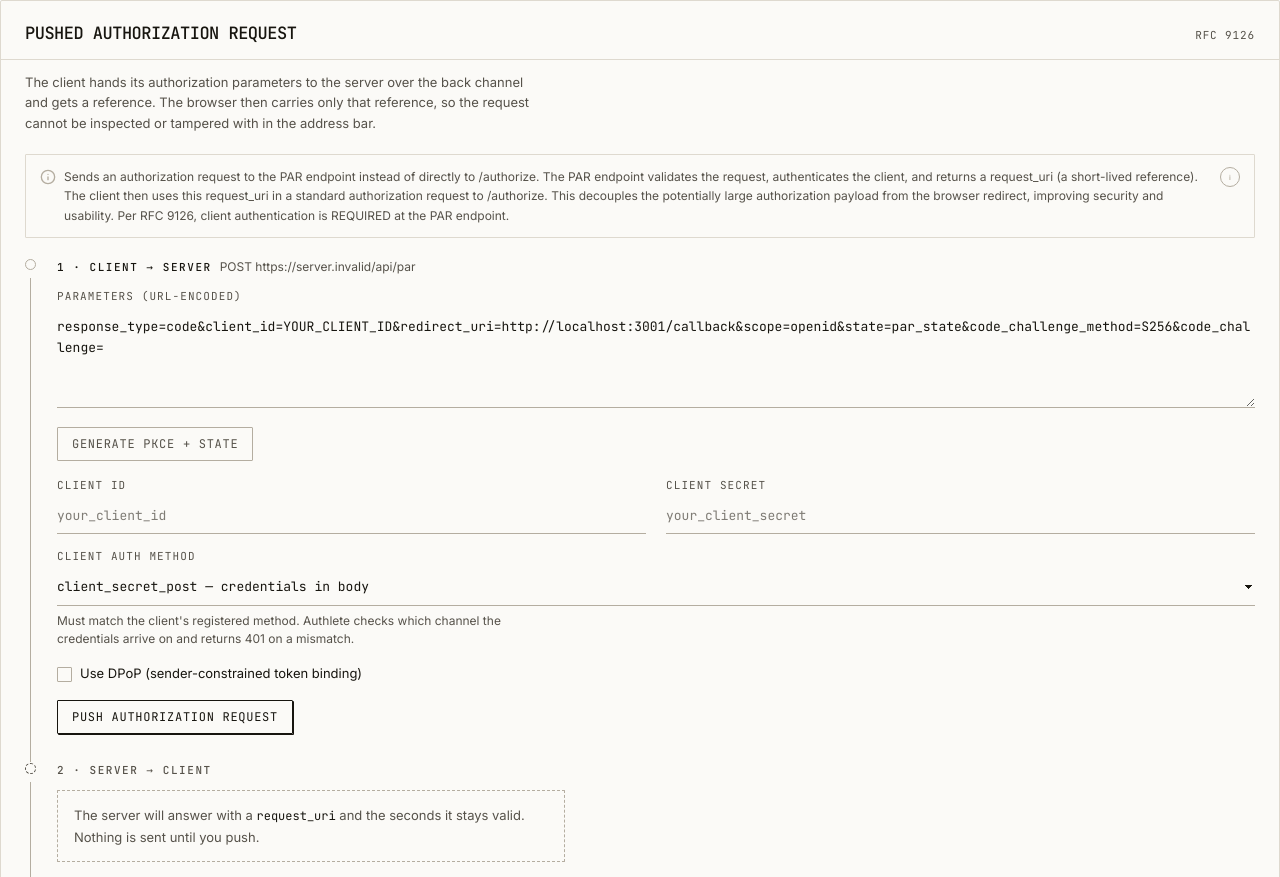
Test: ParSection — the response it reads back › explains a channel mismatch instead of printing it raw
The image size is (1280, 877).
In the field labelled "Client ID": (352, 516) [57,499,646,534], type "1523514379"
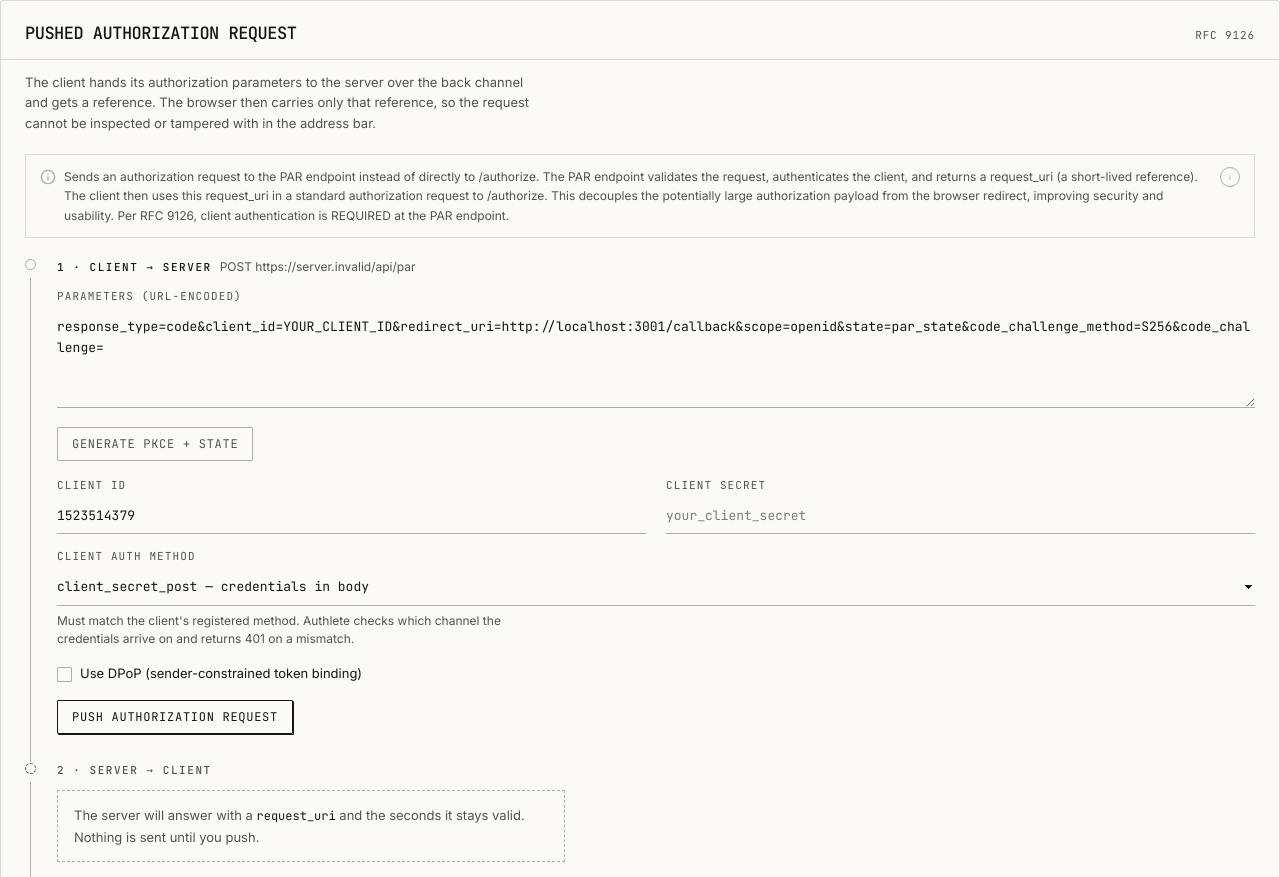
Click the button "Push Authorization Request": click(175, 717) [57,700,293,734]
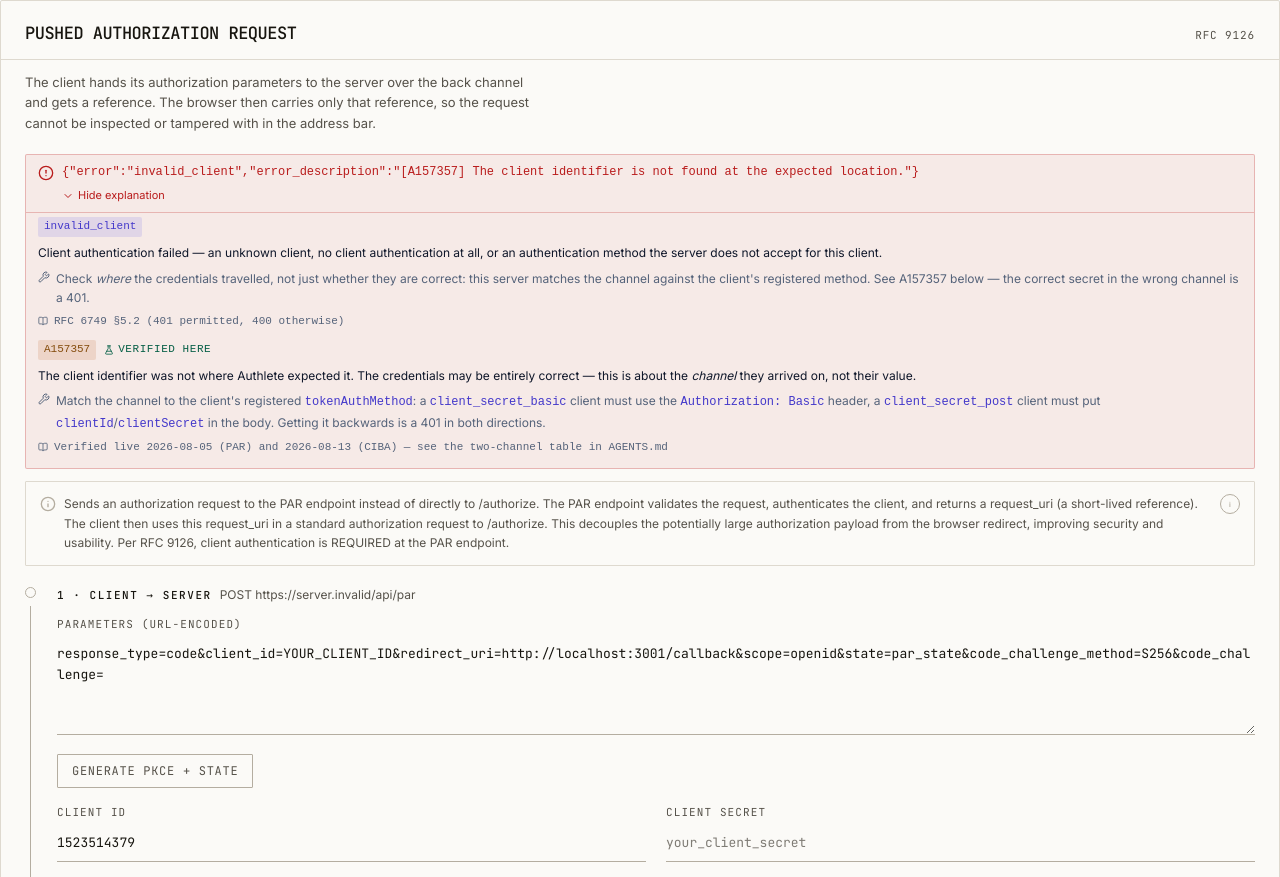
Check: the button "Hide explanation" is shown, box [62,188,165,204]
Check: the text "A157357" shows "\"error\":\"invalid_client\"", box [62,165,919,179]
